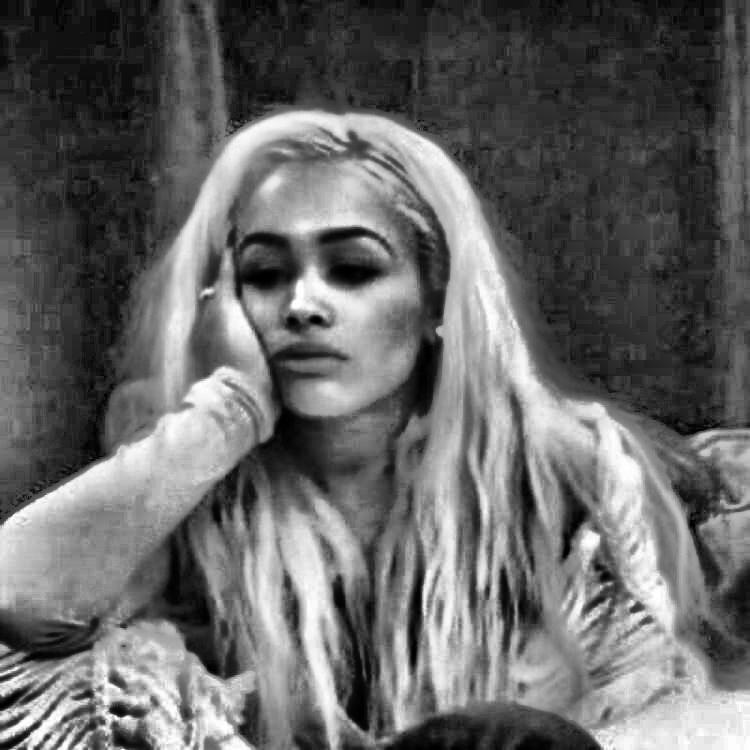sad: (206, 169, 436, 448)
